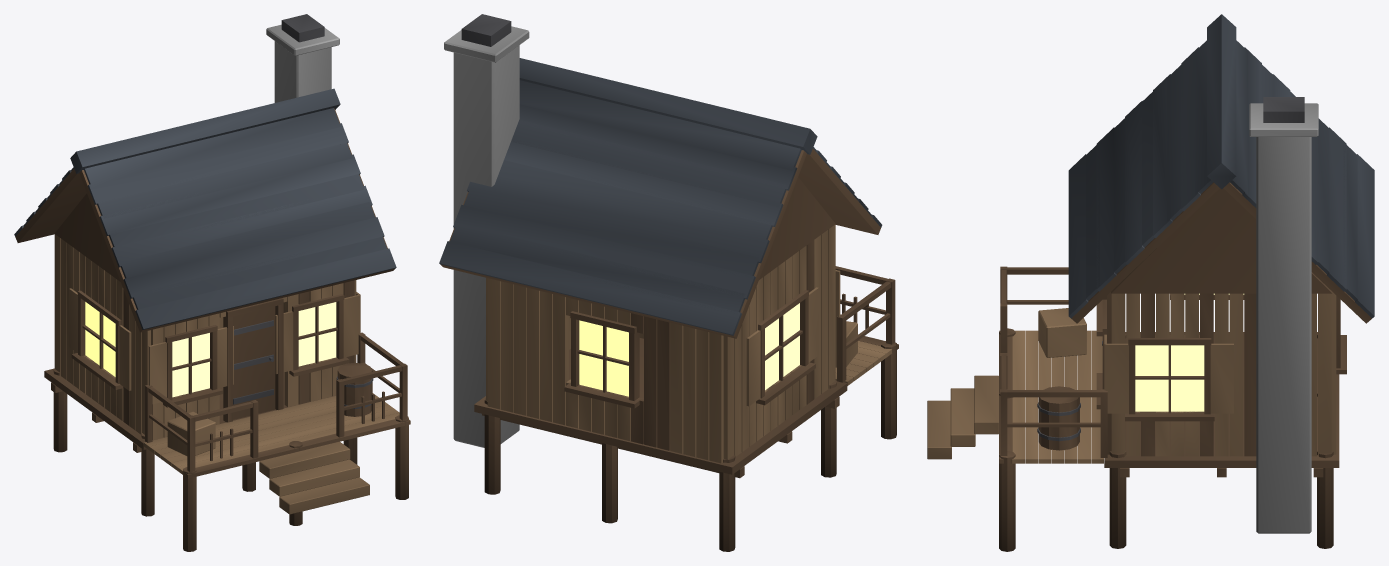
Rendered from Hut.glb.
3 renders of one model, left to right at view 1: azimuth 30°, elevation 25°; view 2: azimuth 150°, elevation 25°; view 3: azimuth 270°, elevation 25°, orthographic. The views are drawn at different scales.
Visible parts, largest first — view 1: Hut, Hut_Windows; view 2: Hut, Hut_Windows; view 3: Hut, Hut_Windows.
Part boxes in pixels (x1,y1,x2,y2): Hut: [14, 14, 410, 551]; Hut_Windows: [85, 302, 336, 397]; Hut: [439, 14, 898, 551]; Hut_Windows: [579, 303, 799, 396]; Hut: [927, 14, 1374, 551]; Hut_Windows: [1135, 293, 1244, 411].
Size of the model in its own units: 5.45 by 7.25 by 6.47.
